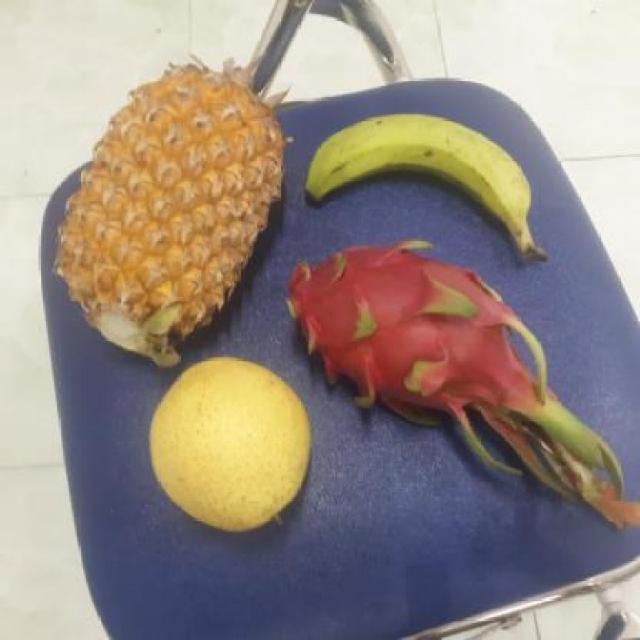banana: (295, 116, 540, 249)
dragon fruit: (272, 240, 538, 422)
pear: (146, 356, 308, 532)
pineapple: (53, 75, 282, 356)
